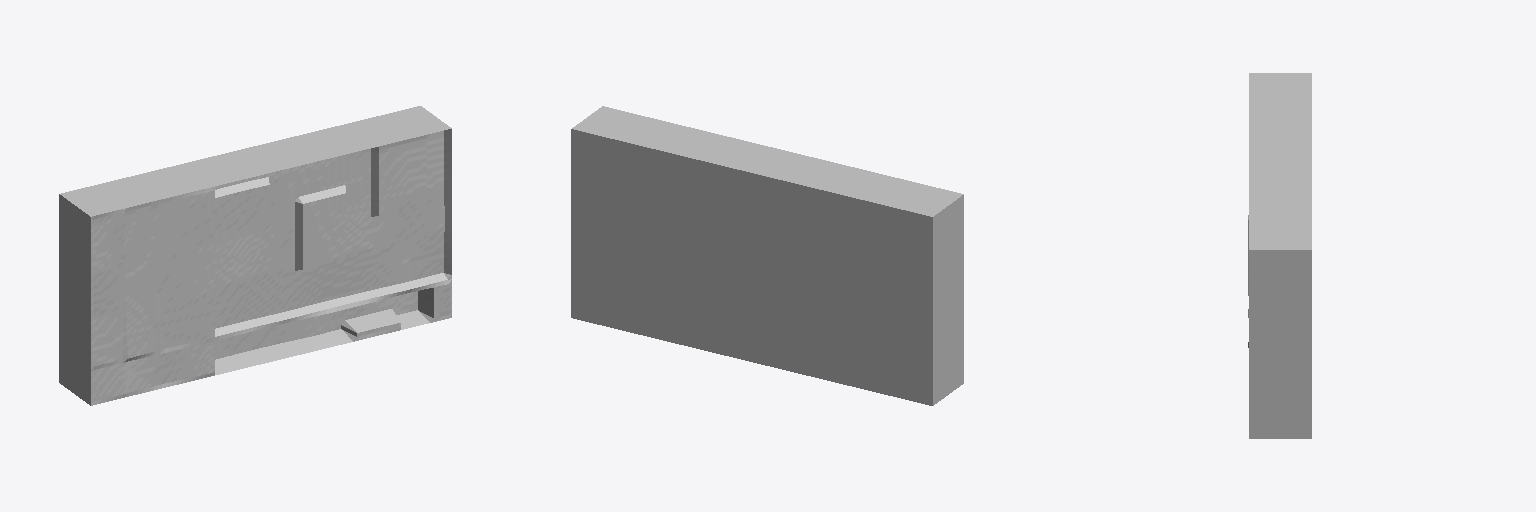
The model's file is rectangular_prism_bumps_9_9.obj.
3 renders of one model, left to right at view 1: azimuth 30°, elevation 25°; view 2: azimuth 150°, elevation 25°; view 3: azimuth 270°, elevation 25°, orthographic.
Bounding box in the file's own units: 10 × 5 × 1.52.